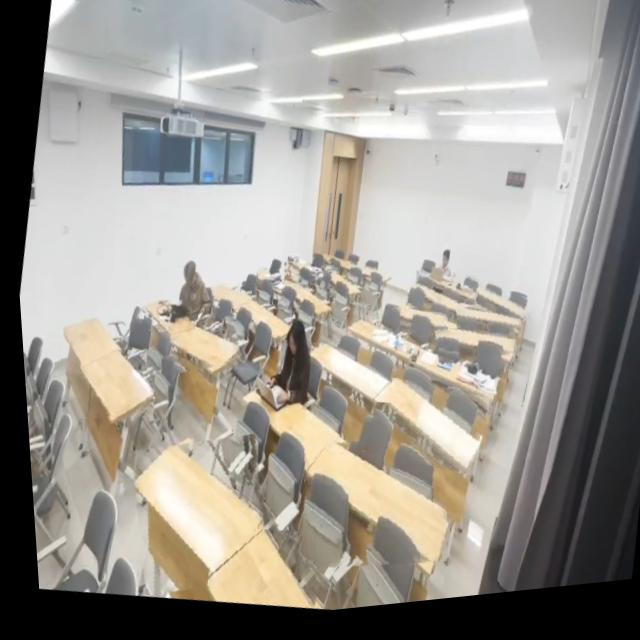Non-empty: (415, 276, 474, 311), (142, 301, 191, 339), (278, 291, 328, 324), (284, 260, 328, 286), (253, 273, 294, 298)
empty: (128, 448, 256, 588), (297, 450, 438, 571), (371, 386, 472, 481), (199, 535, 302, 613), (77, 352, 148, 419), (304, 351, 385, 409), (166, 326, 233, 370), (60, 319, 116, 371), (432, 338, 510, 364), (465, 296, 524, 329), (233, 307, 285, 343), (406, 291, 455, 323), (451, 318, 515, 342), (386, 317, 441, 341), (320, 276, 362, 304), (207, 289, 246, 311), (346, 269, 384, 284)
